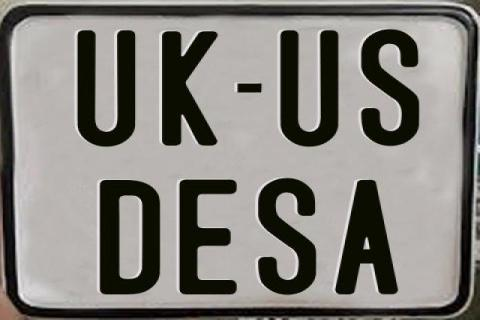A: (333, 180, 397, 298)
D: (98, 178, 158, 294)
E: (176, 177, 237, 295)
K: (159, 31, 215, 148)
S: (258, 177, 319, 297), (362, 27, 422, 147)
U: (74, 30, 136, 150), (279, 30, 339, 148)
